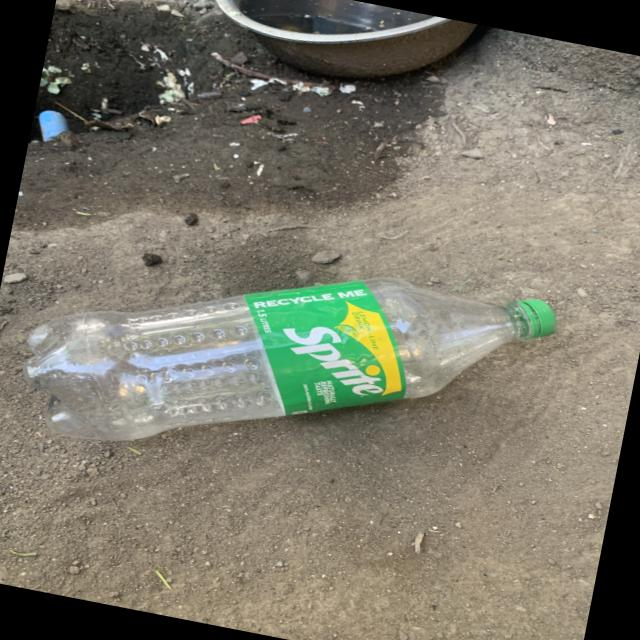Bottle: (24, 279, 557, 440)
